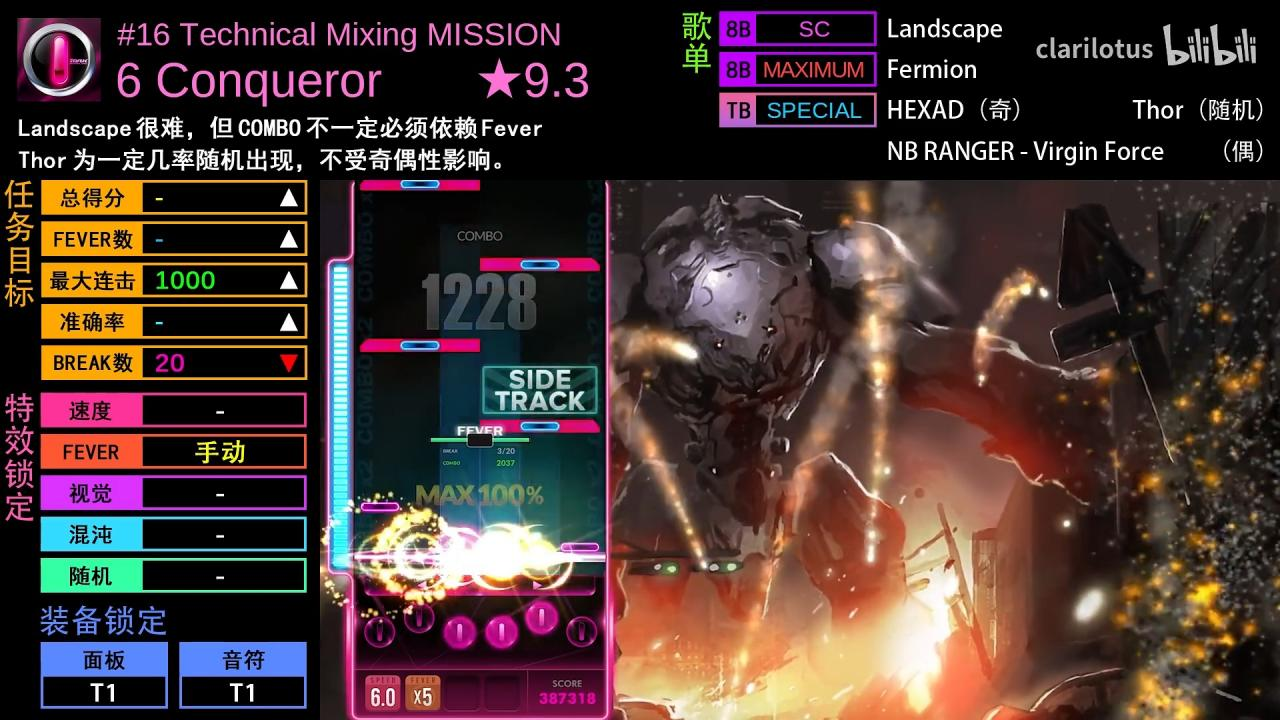note: (400, 338, 440, 352), (520, 420, 561, 432), (520, 258, 561, 269), (361, 501, 399, 512), (560, 543, 600, 553)
xnote: (480, 419, 601, 433), (361, 338, 480, 352), (480, 257, 601, 270), (360, 179, 480, 191)
